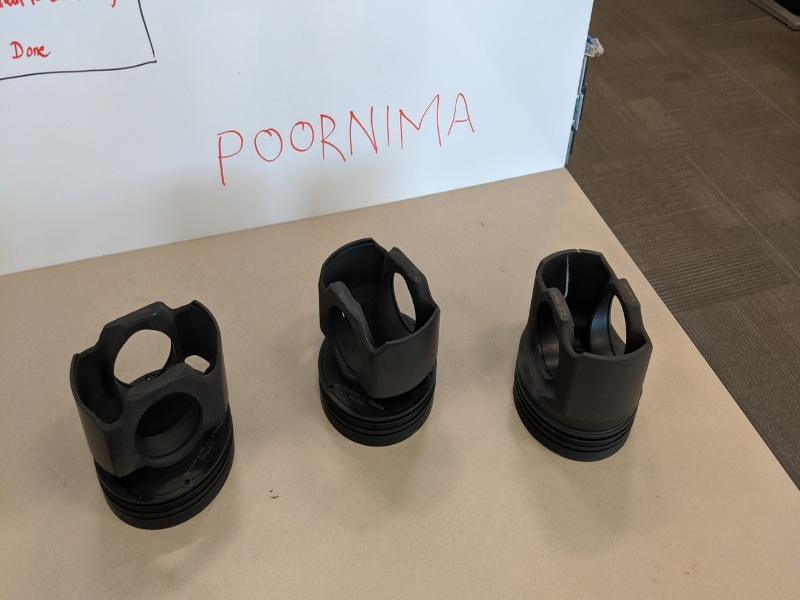piston: (64, 295, 244, 541), (507, 242, 661, 471), (308, 229, 450, 455)
